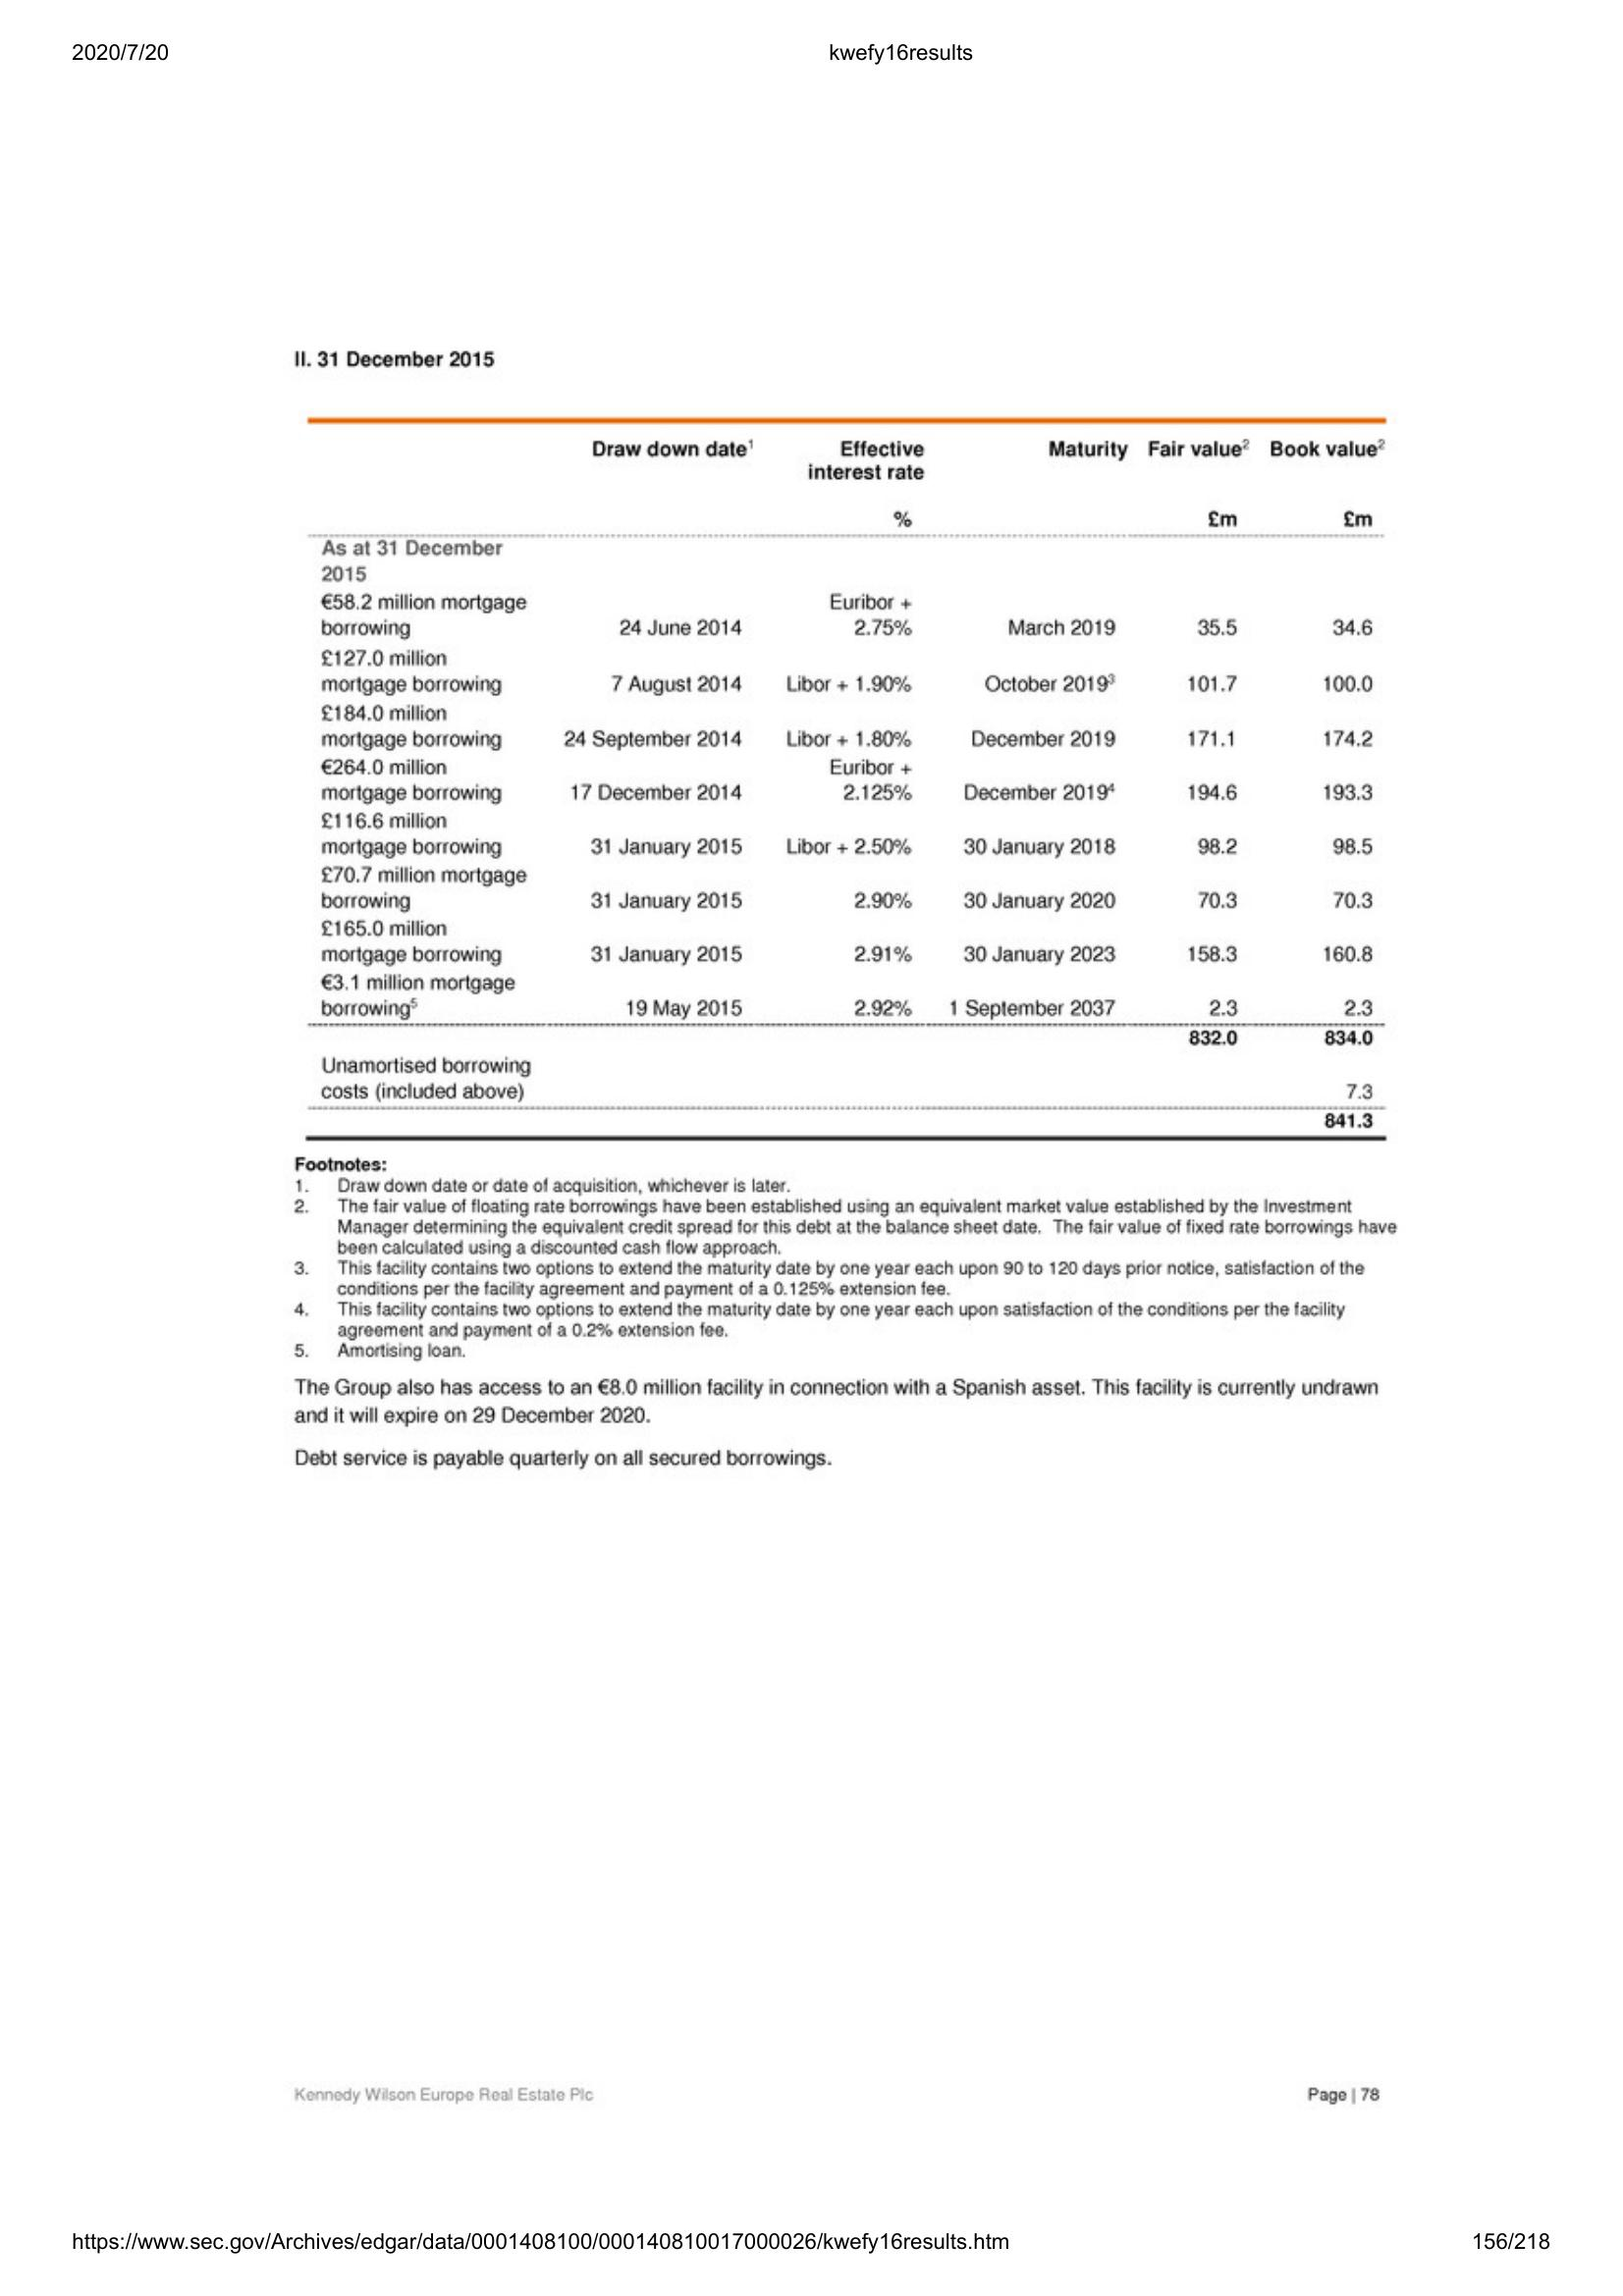table: (302, 409, 1391, 1148)
